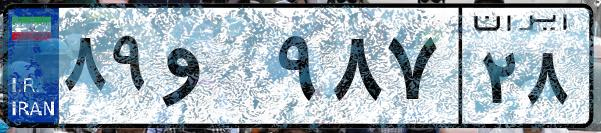2: (475, 38, 525, 113)
7: (385, 28, 445, 110)
8: (330, 28, 385, 110), (57, 26, 110, 100), (525, 38, 570, 115)
9: (270, 28, 330, 110), (110, 28, 158, 98)
و: (158, 20, 270, 120)
